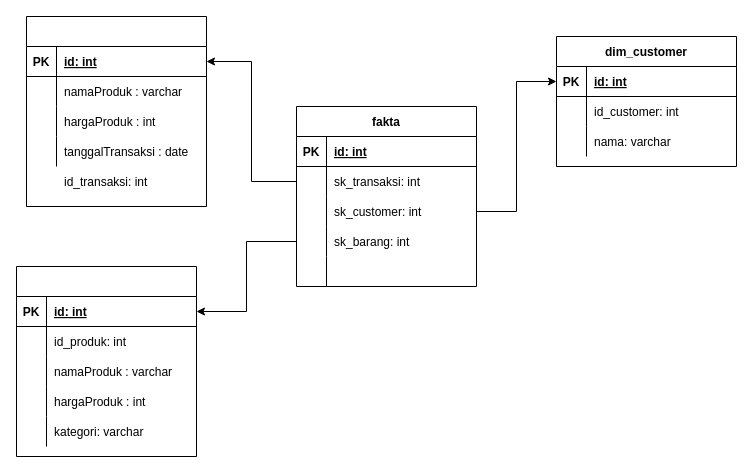
This 753x473 diagram has some shape labels left out. The box of each missing label's shape, as (x1, y1, x2, y2) in pixels:
dim_produk: (16, 266, 196, 456)
dim_transaksi: (26, 16, 206, 206)
